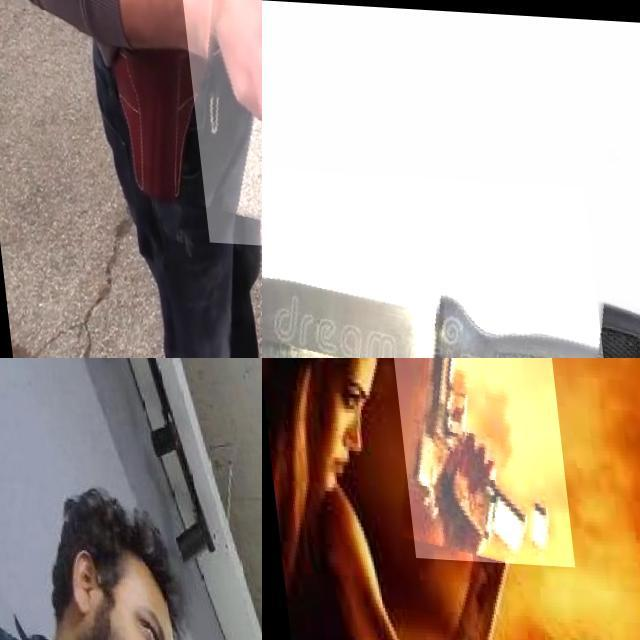-: (262, 156, 614, 358)
gun-knife-thesis - v11 Yolov5 augmented: (380, 358, 566, 563), (175, 0, 262, 252)
